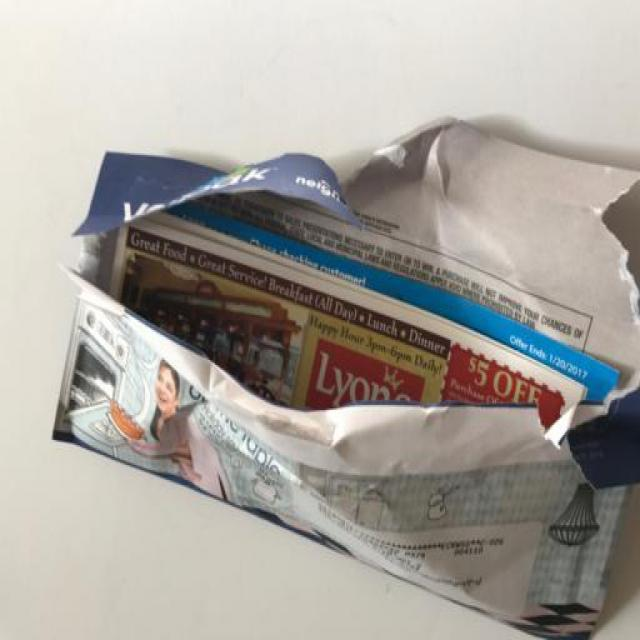paper: (40, 104, 640, 640)
